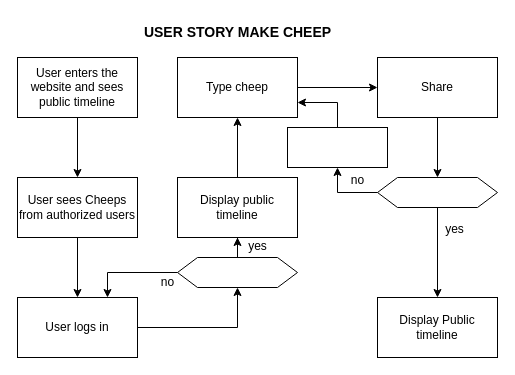
Image size: 515x375. Some labels were removed from this diagram. The centre of each missing label's shape, as x and y in pixels:
"Display warning No empty cheeps" belongs at point (337, 147).
"Successful" belongs at point (237, 272).
"Valid" belongs at point (437, 192).
